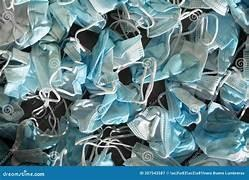Mask: (193, 103, 248, 161), (83, 29, 118, 94), (11, 119, 59, 164), (204, 13, 238, 73), (128, 0, 179, 37), (164, 40, 207, 81), (15, 0, 51, 47), (70, 95, 115, 132), (4, 48, 36, 98), (31, 34, 60, 88), (144, 30, 172, 80), (0, 0, 29, 47), (64, 0, 105, 30), (124, 143, 179, 165), (127, 106, 162, 139), (113, 34, 143, 68), (49, 2, 75, 41), (184, 74, 222, 99), (220, 71, 246, 104), (227, 0, 248, 32), (89, 0, 127, 14), (188, 154, 232, 165), (202, 0, 227, 15), (91, 149, 113, 165), (181, 0, 210, 8), (0, 139, 8, 164)
